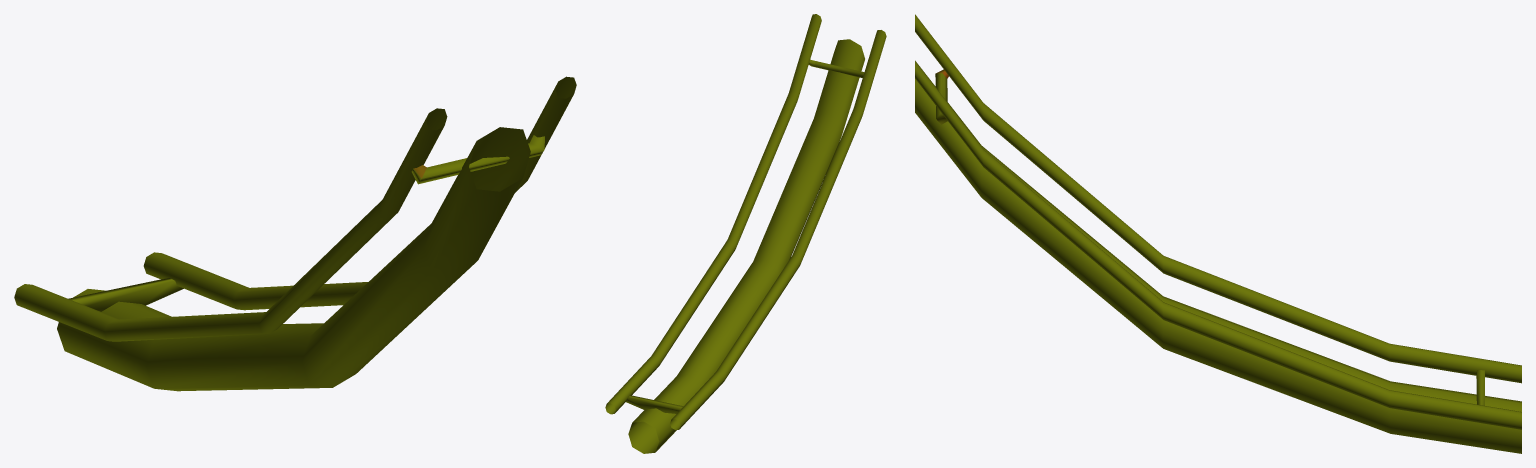
3 renders of one model, left to right at view 1: azimuth 30°, elevation 25°; view 2: azimuth 150°, elevation 25°; view 3: azimuth 270°, elevation 25°, orthographic. The views are drawn at different scales.
Parts seen in each view (by area): view 1: Mesh; view 2: Mesh; view 3: Mesh.
Boxes of the visible parts, <box> form: Mesh: <box>14,76,576,391</box>; Mesh: <box>605,14,886,453</box>; Mesh: <box>915,14,1521,453</box>.
Size of the model in its own units: 66.76 by 236 by 313.
